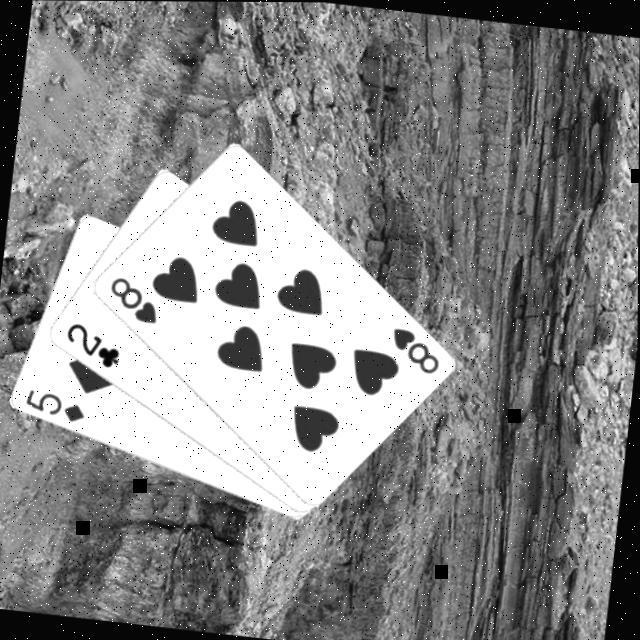2C: (62, 316, 127, 371)
5D: (23, 384, 90, 424)
8H: (104, 270, 166, 326), (387, 321, 448, 375)
